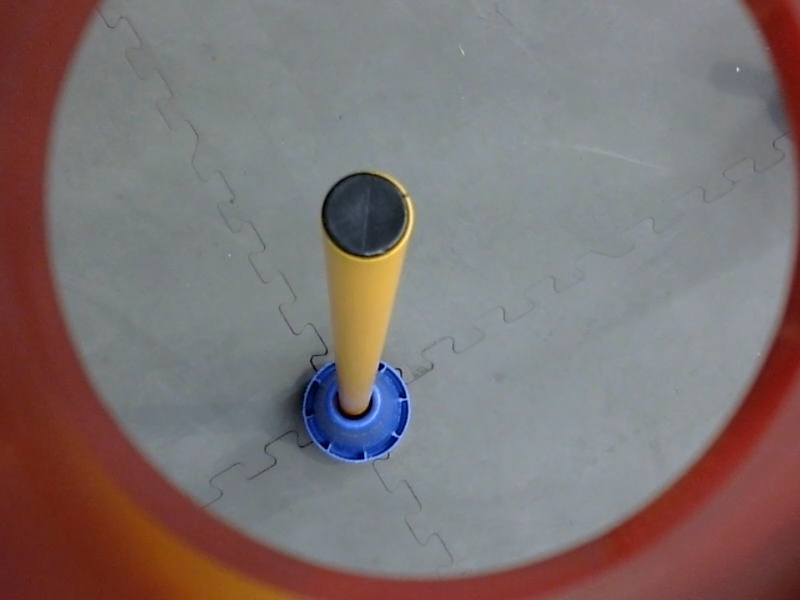tip: (318, 167, 418, 265)
